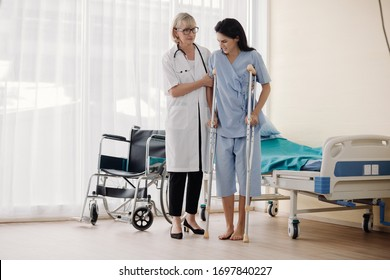crutches: (203, 18, 271, 244)
